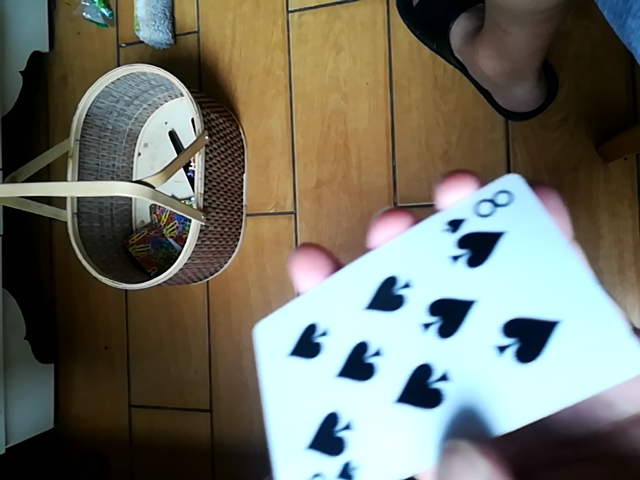ht 8: (258, 168, 636, 479)
